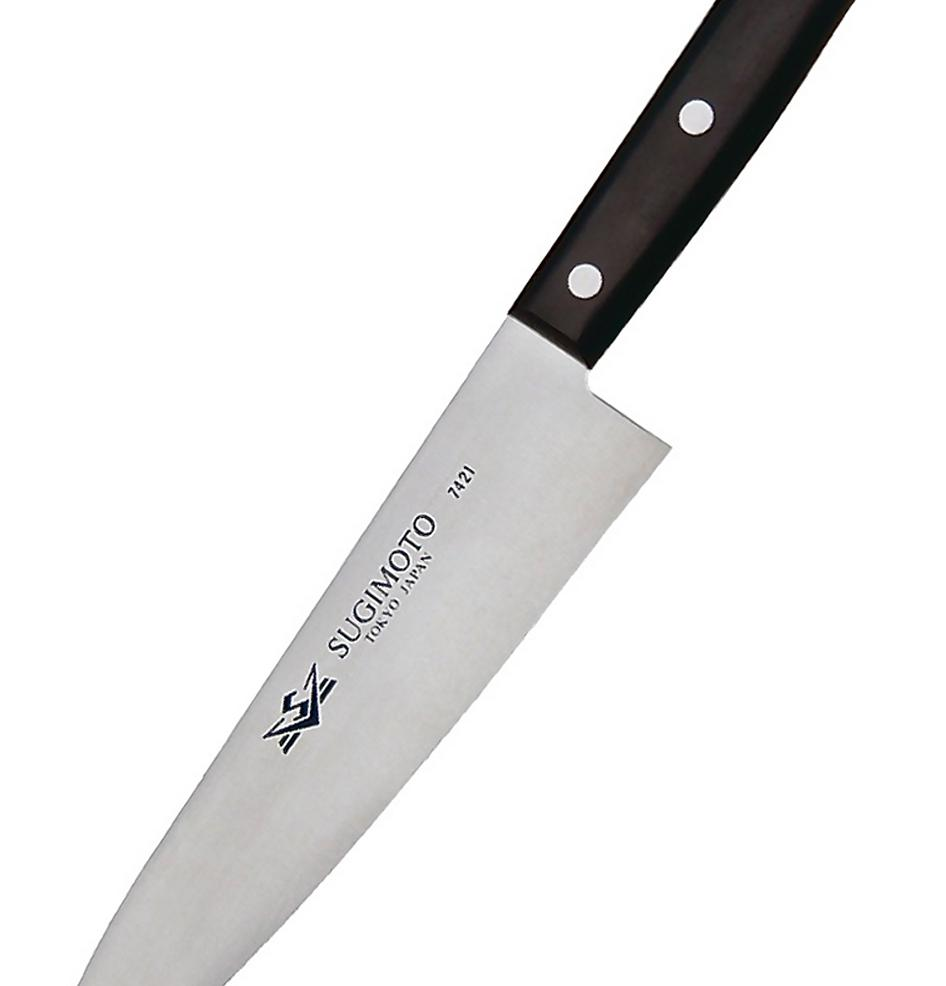knife: (80, 1, 859, 986)
